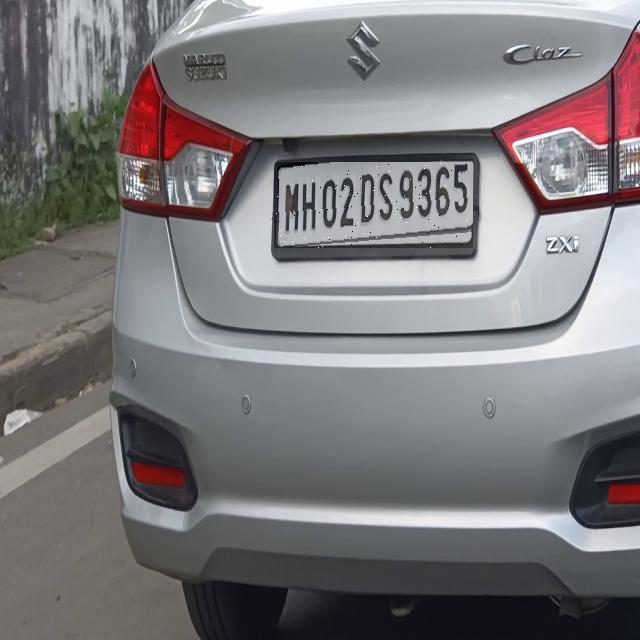Plate: (275, 163, 474, 249)
